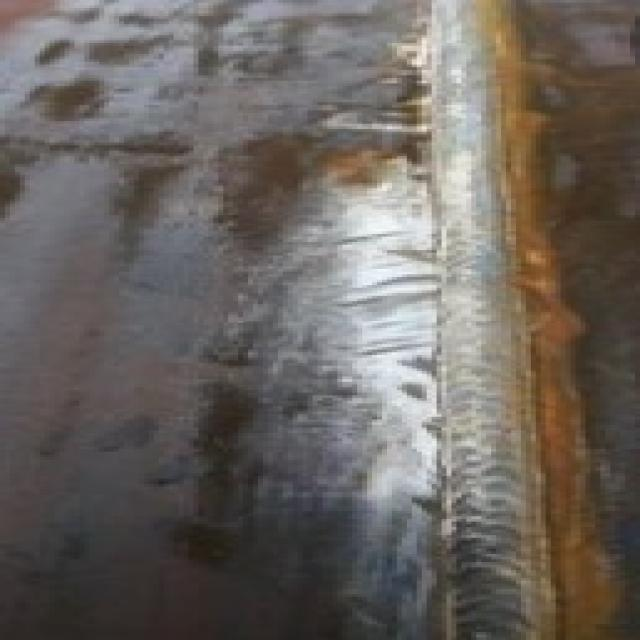Good Weld: (402, 0, 556, 637)
